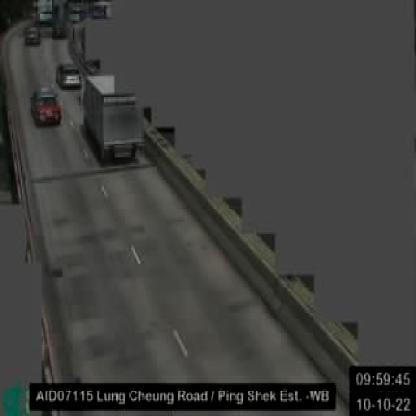Car: (31, 85, 61, 126), (56, 60, 82, 87), (26, 26, 40, 43)
Truck: (86, 74, 140, 162)
